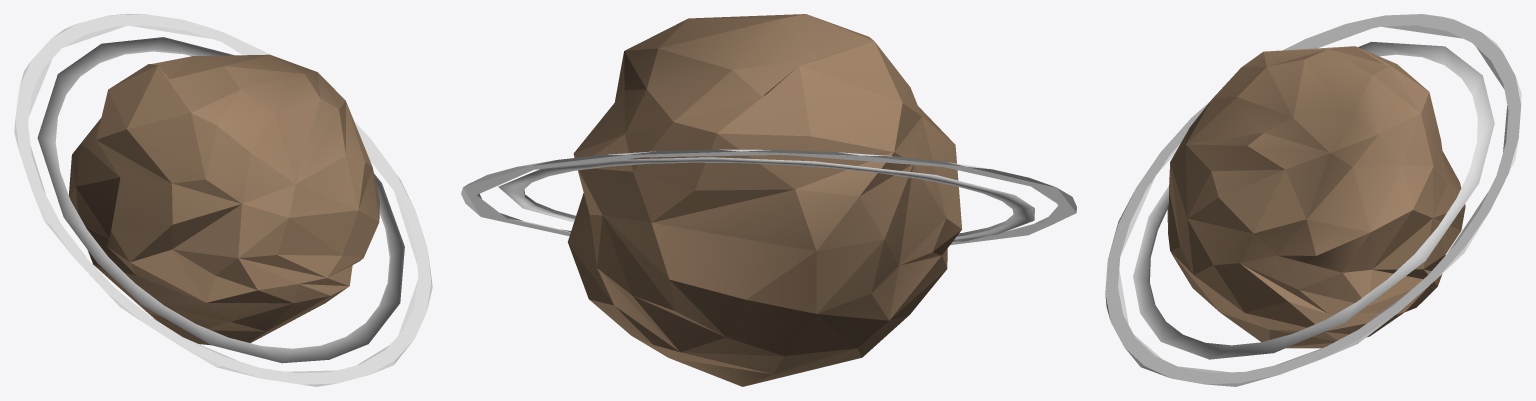
The model's file is Planet-2-ring.fbx.
3 views of the same model, side by side, from view 1: azimuth 30°, elevation 25°; view 2: azimuth 150°, elevation 25°; view 3: azimuth 270°, elevation 25° (orthographic). The views are drawn at different scales.
Visible parts, largest first — view 1: Icosphere, Circle.001, Circle; view 2: Icosphere, Circle.001, Circle; view 3: Icosphere, Circle.001, Circle.
Boxes of the visible parts, x1=… form: Icosphere: x1=69, y1=54, x2=379, y2=345; Circle.001: x1=14, y1=14, x2=432, y2=386; Circle: x1=37, y1=37, x2=404, y2=363; Icosphere: x1=568, y1=14, x2=962, y2=386; Circle.001: x1=461, y1=149, x2=1076, y2=244; Circle: x1=498, y1=157, x2=1034, y2=239; Icosphere: x1=1167, y1=46, x2=1465, y2=348; Circle.001: x1=1105, y1=14, x2=1521, y2=386; Circle: x1=1133, y1=41, x2=1494, y2=359.
Size of the model in its own units: 430 by 276 by 383.
